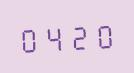four: (42, 21, 65, 53)
two: (66, 20, 89, 51)
zero: (18, 22, 41, 54), (90, 18, 113, 50)
